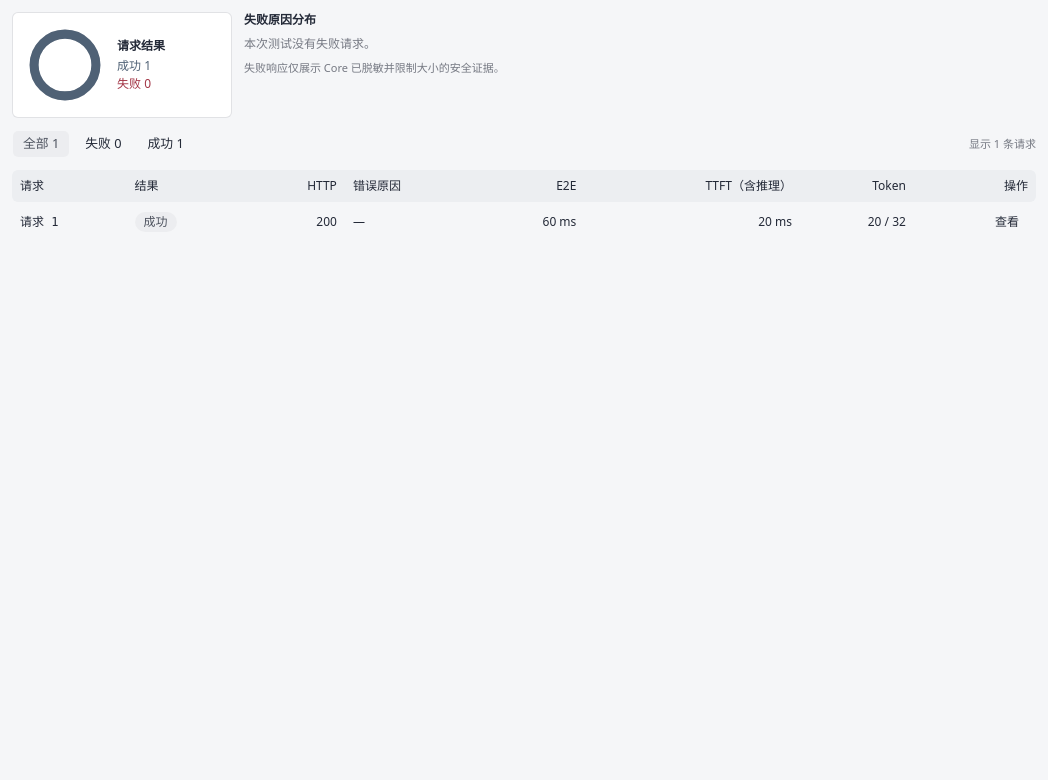
it: QuickPerformanceRequestAnalysis streaming telemetry › labels legacy TTFT as including reasoning and shows every v3 scalar in the selected request
The width and height of the screenshot is (1048, 780).
Expected: the column heading "TTFT（含推理）" is shown, [584,170,800,202]
Click the button with aria-label "查看请求 1 详情" at (1007, 222), box [986,210,1028,234]
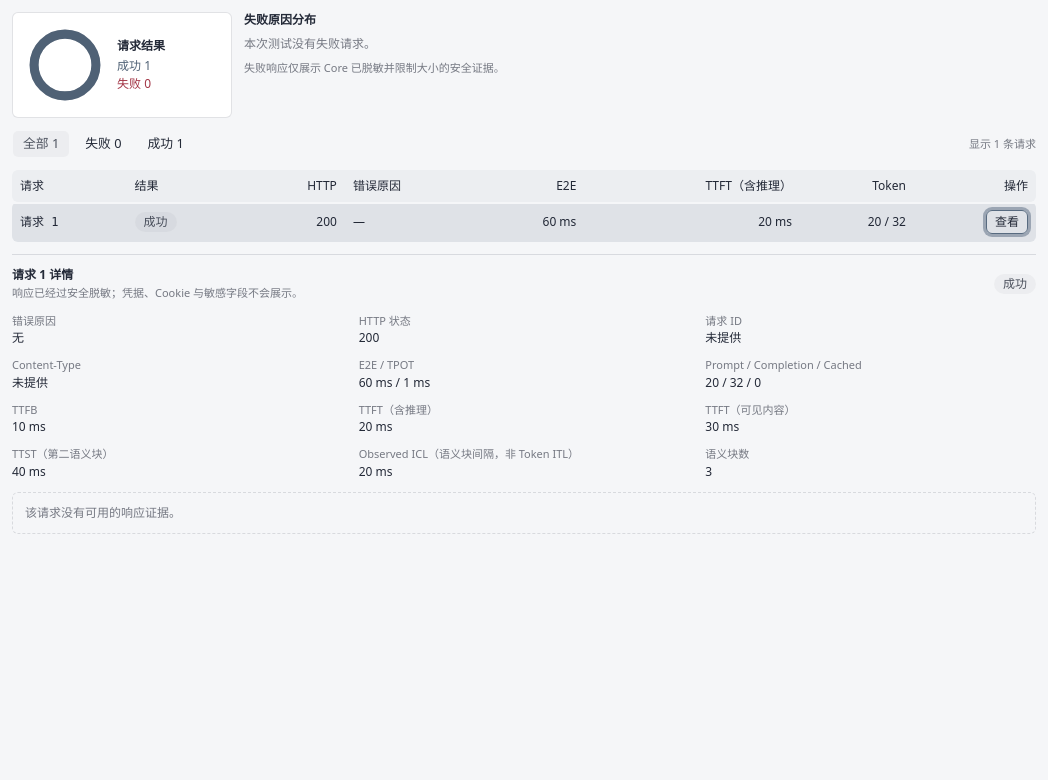
Expected: the text "10 ms" is shown, [12,418,46,436]
Expected: the text "30 ms" is shown, [705,418,739,436]
Expected: the text "40 ms" is shown, [12,463,46,480]
